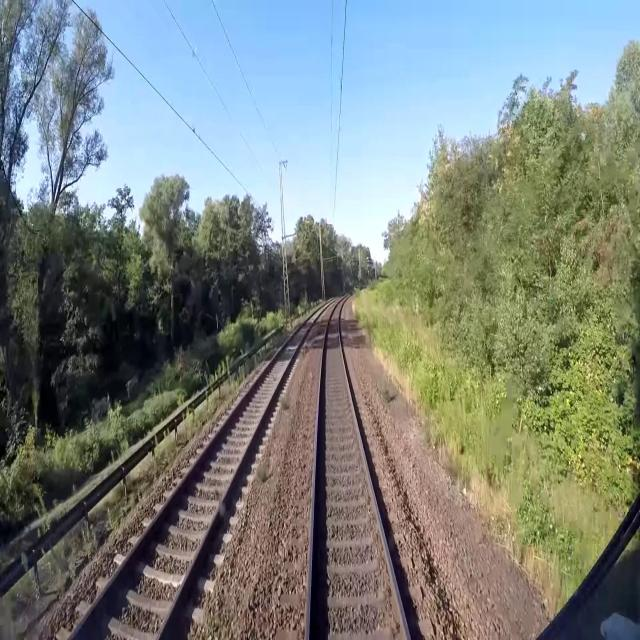rail-track: (74, 307, 323, 639), (310, 299, 409, 639)
